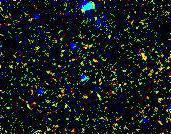star: (129, 40, 159, 70)
